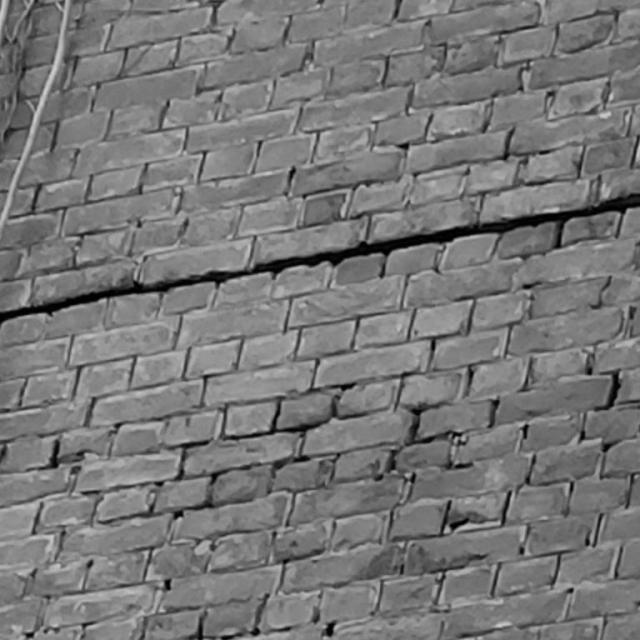crack: (1, 193, 639, 324)
